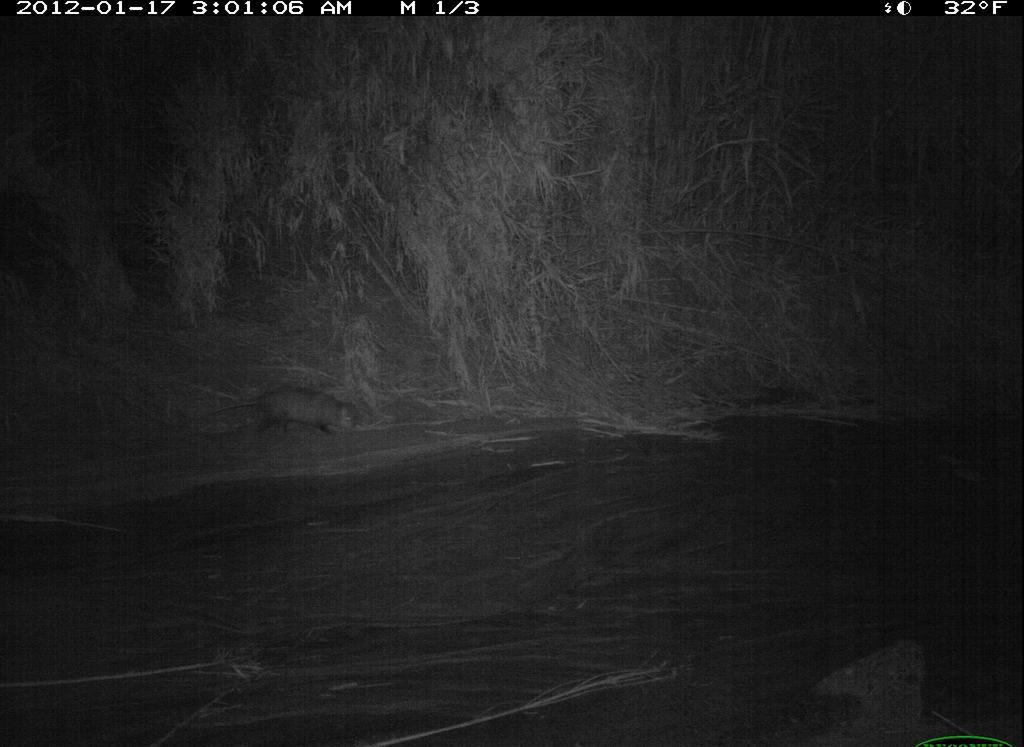opossum: (190, 369, 377, 459)
